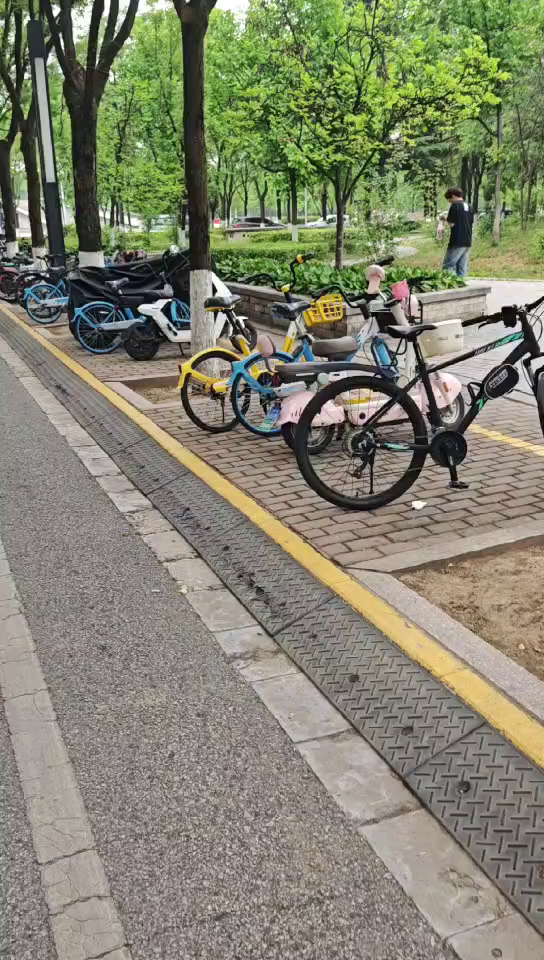others: (304, 313, 543, 501), (290, 282, 465, 462)
shared_bike_haluo: (236, 294, 415, 439), (75, 266, 189, 356), (25, 257, 93, 328)
shared_bike_meituan: (164, 268, 328, 425)
